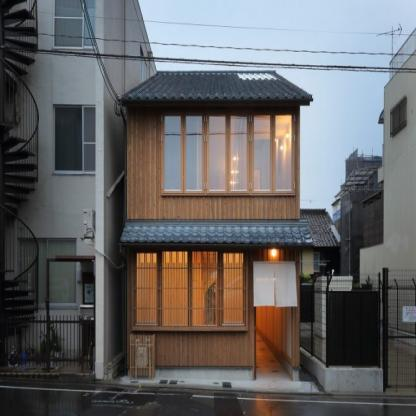Building Outline: (119, 70, 314, 381)
Door: (256, 275, 292, 380)
Facade: (126, 107, 300, 381)
Floor Slab: (126, 218, 300, 226)
Ground Floor: (126, 226, 300, 381)
Roof: (121, 70, 313, 106), (120, 219, 314, 245)
Top Floor: (126, 106, 300, 218)
Window: (161, 111, 295, 196), (162, 251, 188, 327), (134, 251, 160, 327), (220, 251, 245, 327), (192, 251, 217, 327)
Window Outline: (132, 250, 249, 331)
